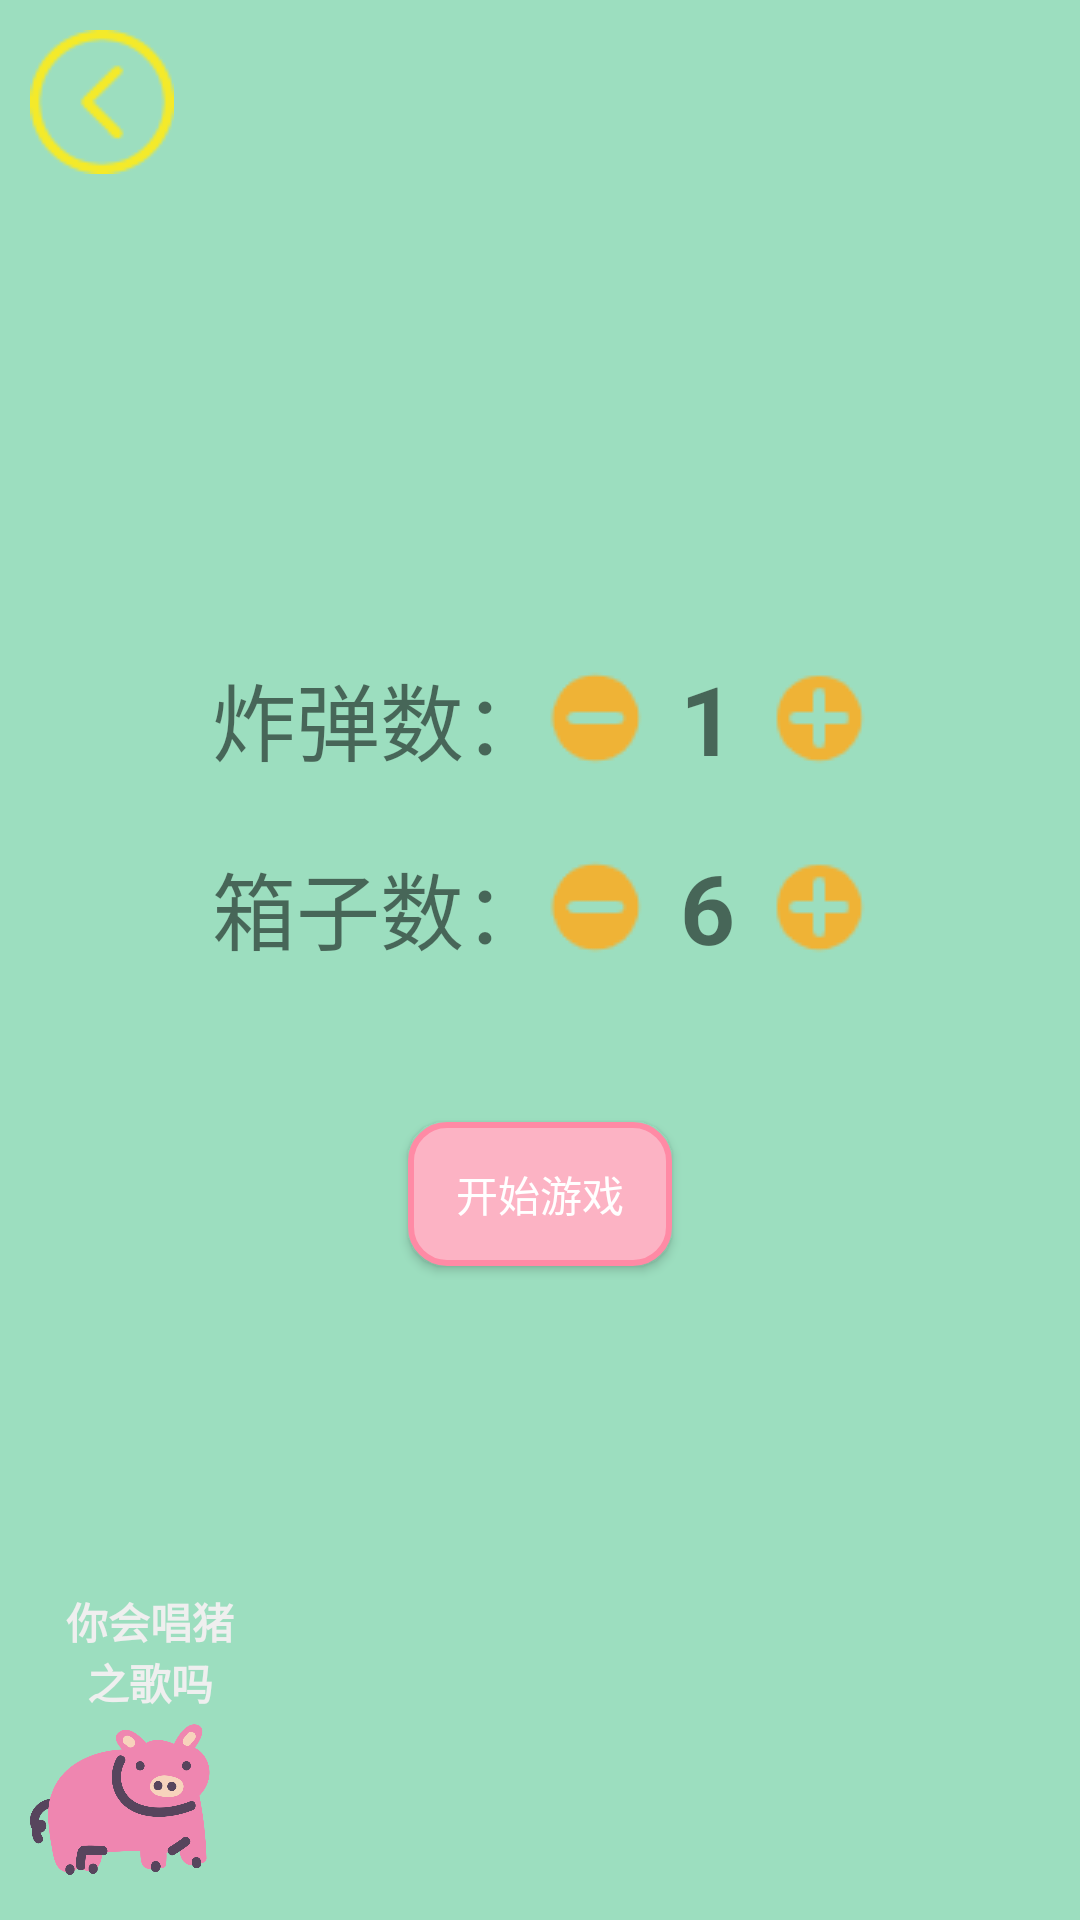

Named icons in this screenshot (1080 × 1920) and their centers, point (x, y):
add: point (819, 718), point (819, 907)
back: point (102, 102)
subtract: point (595, 718), point (595, 907)
zhu: point (120, 1799)
